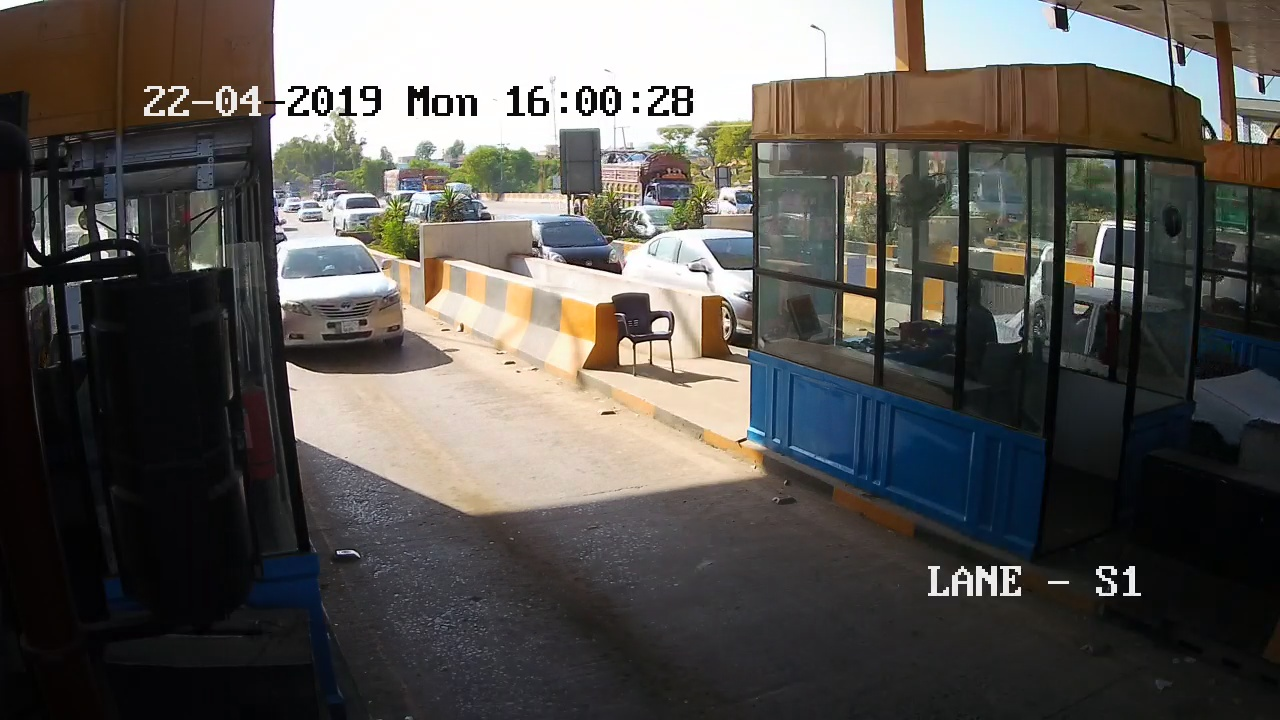car: (275, 235, 423, 387)
